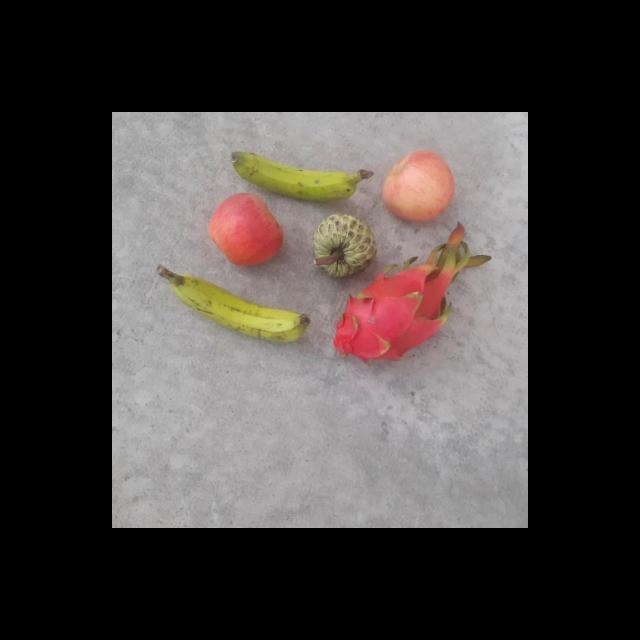Sakya fruit: (310, 212, 378, 278)
apple: (206, 191, 282, 266), (378, 150, 454, 222)
banana: (172, 272, 316, 348), (229, 148, 379, 202)
pitaya: (333, 266, 451, 362)
